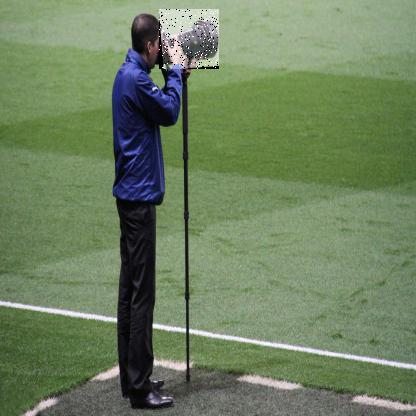Camera: (160, 10, 221, 71)
